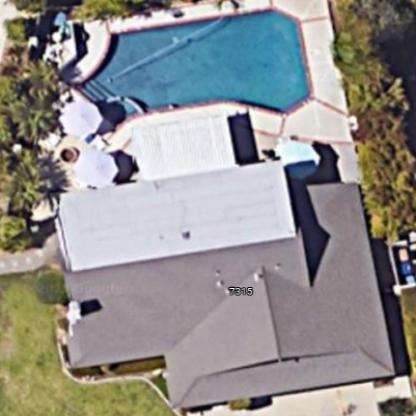pool: (47, 3, 321, 125)
